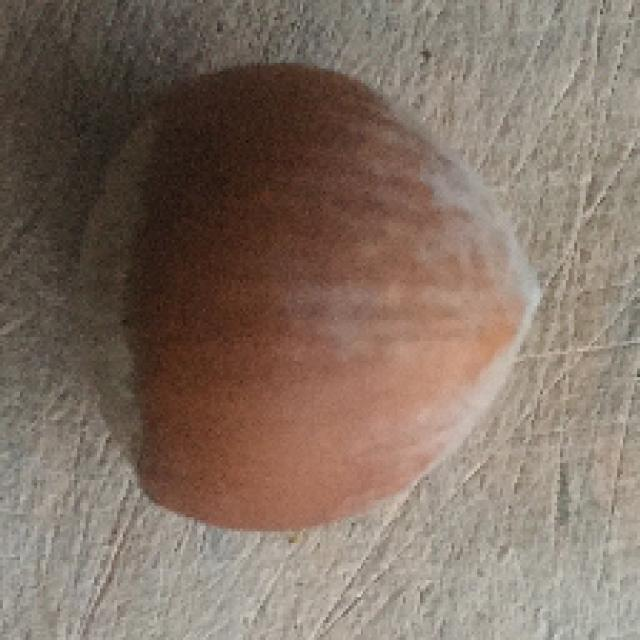qualityHazelnut: (55, 62, 544, 536)
